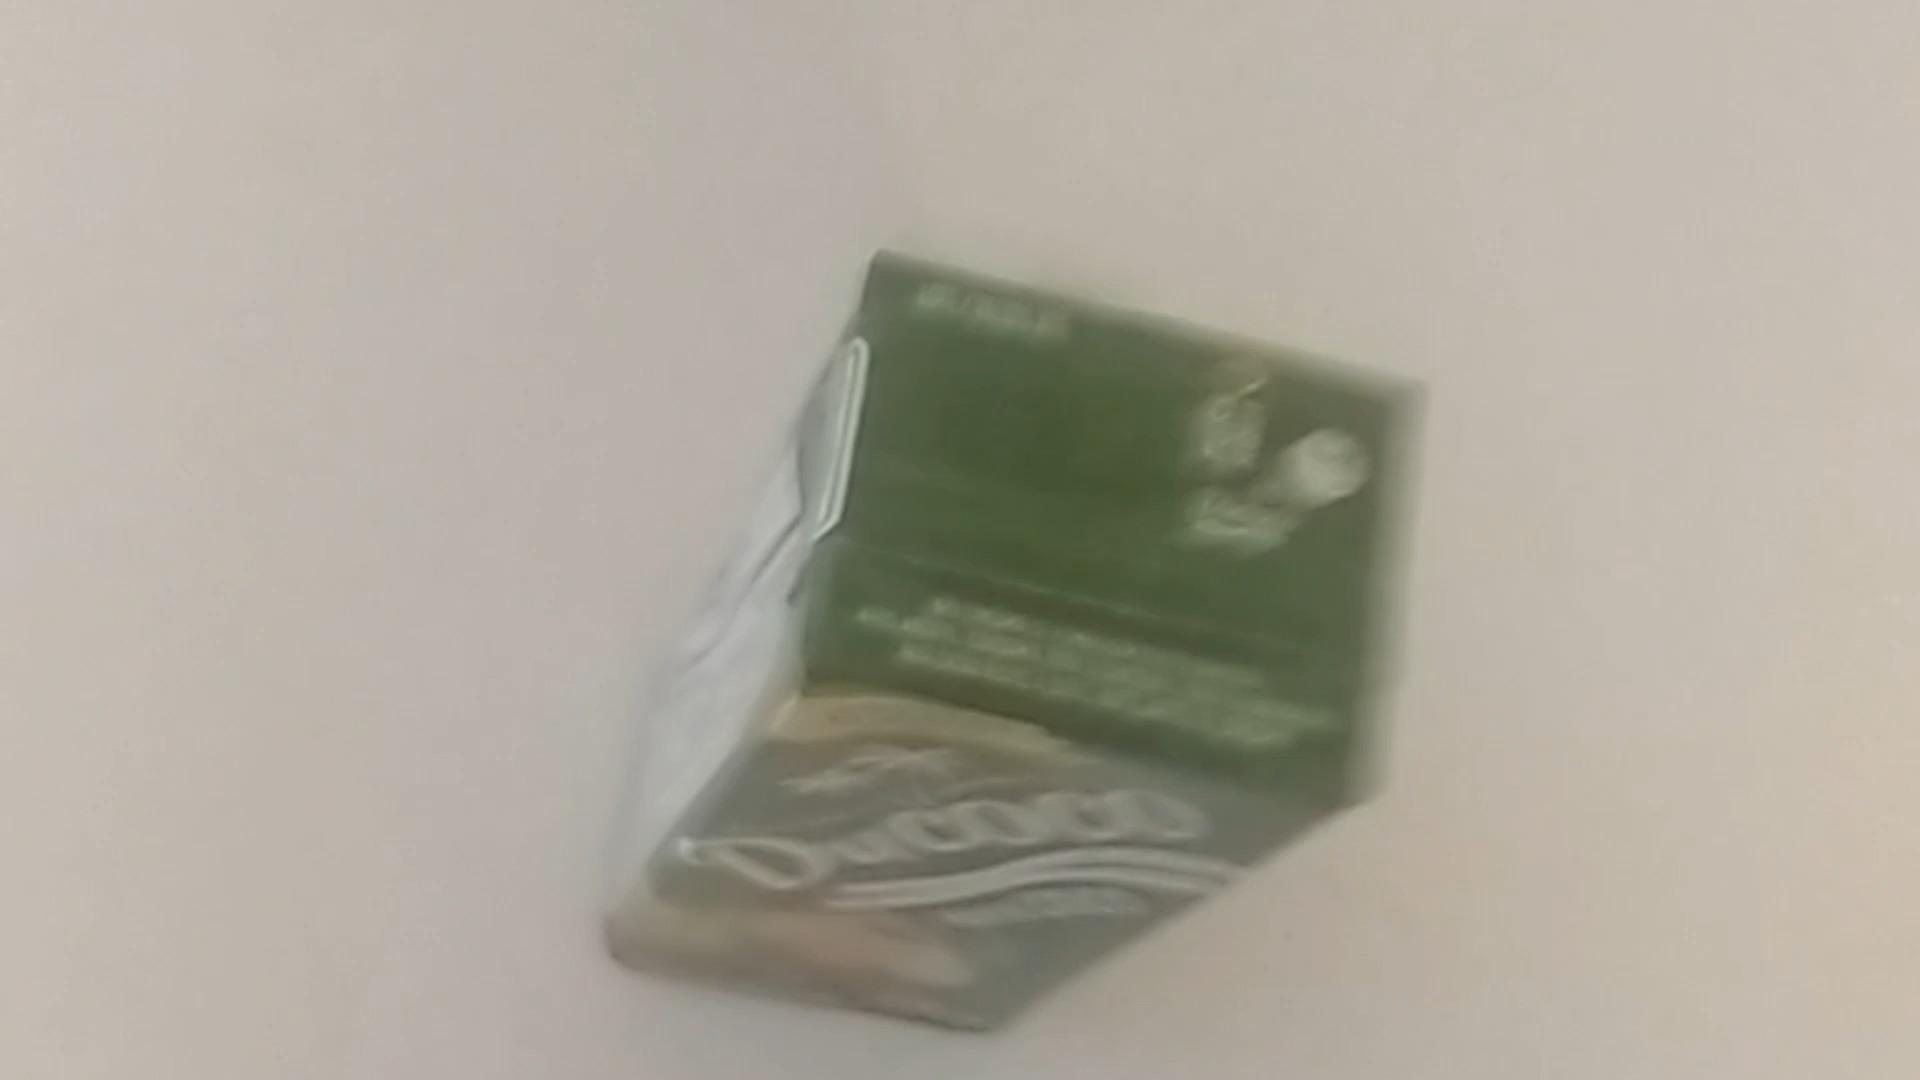coco: (585, 245, 1423, 1040)
